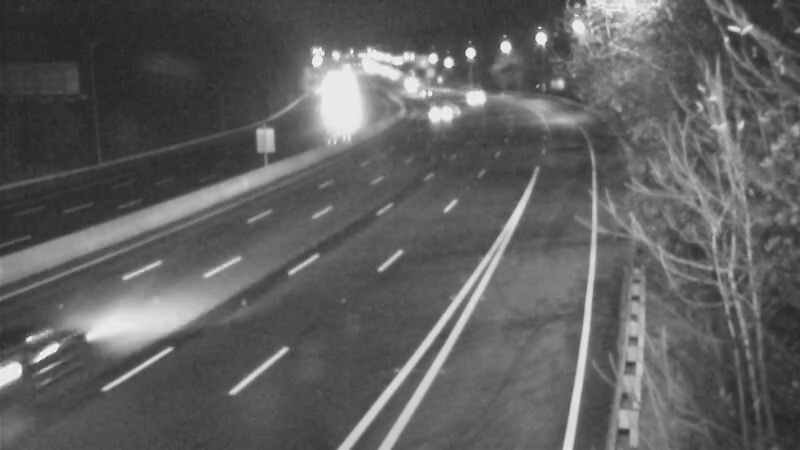vehicle: (1, 304, 97, 414), (385, 55, 435, 105), (404, 68, 454, 118), (449, 74, 499, 124), (414, 91, 464, 141), (304, 85, 354, 135)
